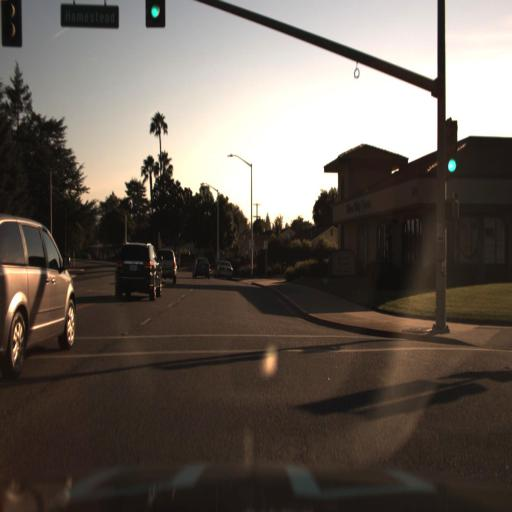car: (0, 195, 82, 404), (103, 236, 162, 307), (157, 241, 181, 295), (189, 249, 212, 284), (212, 254, 235, 280)
trafficLight-Green: (444, 123, 459, 173)
